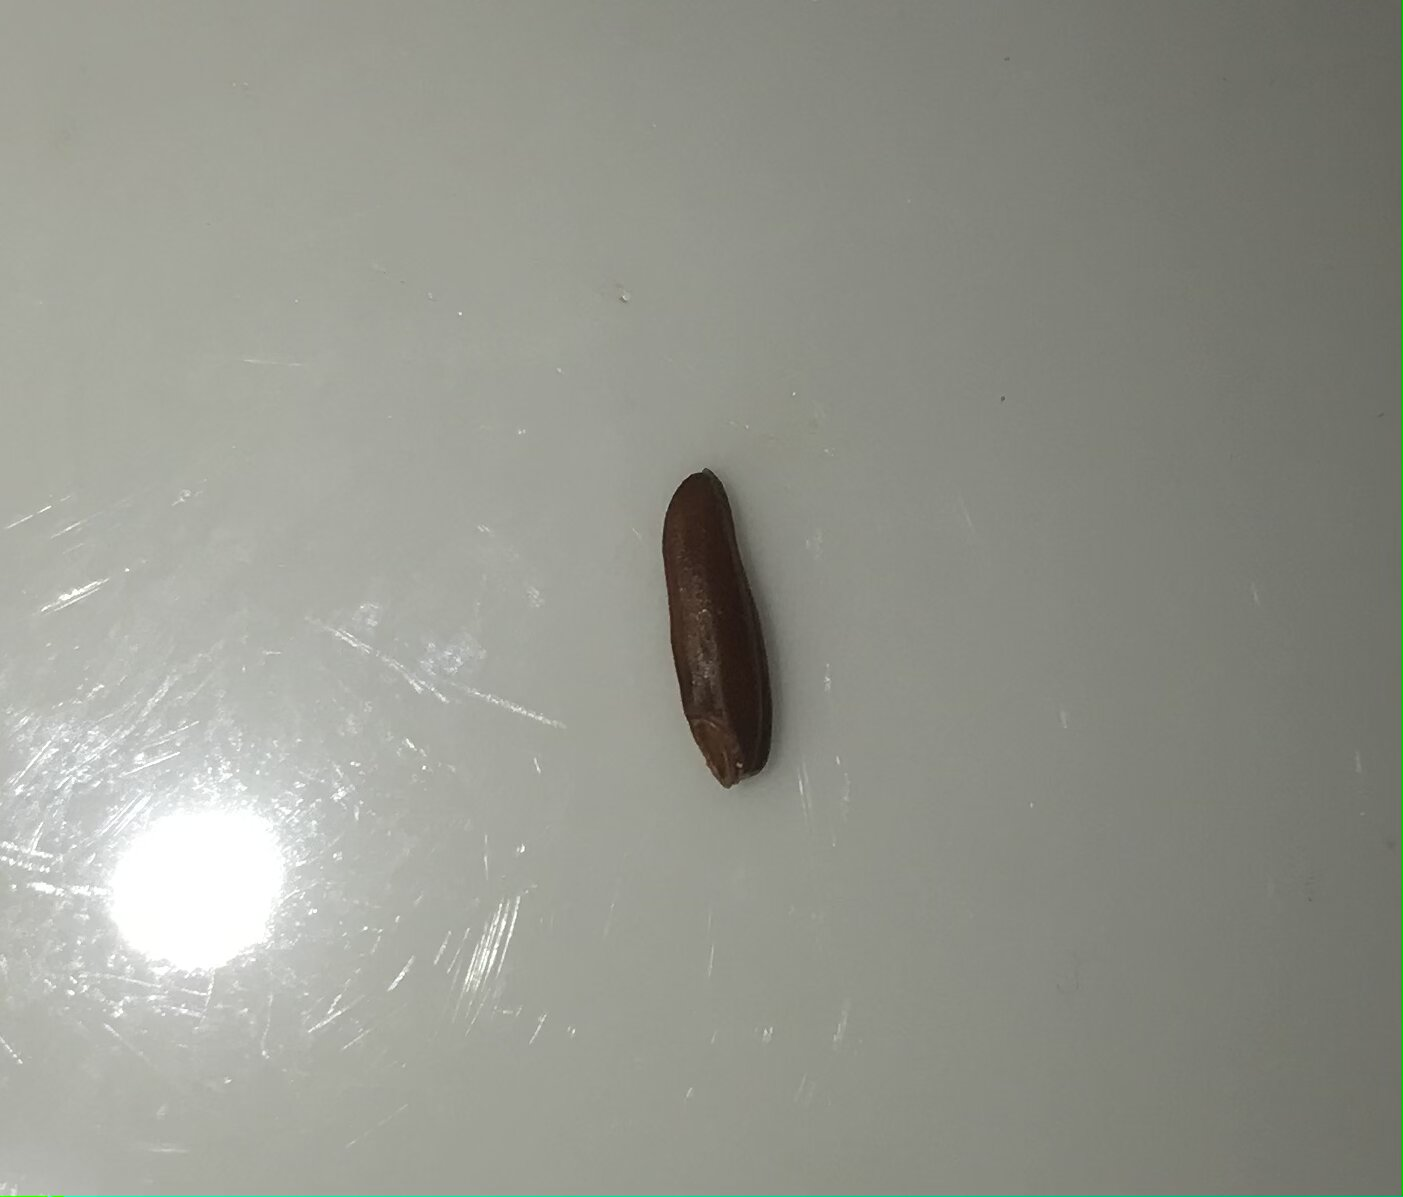Gao Huyet Rong: (647, 462, 789, 792)
